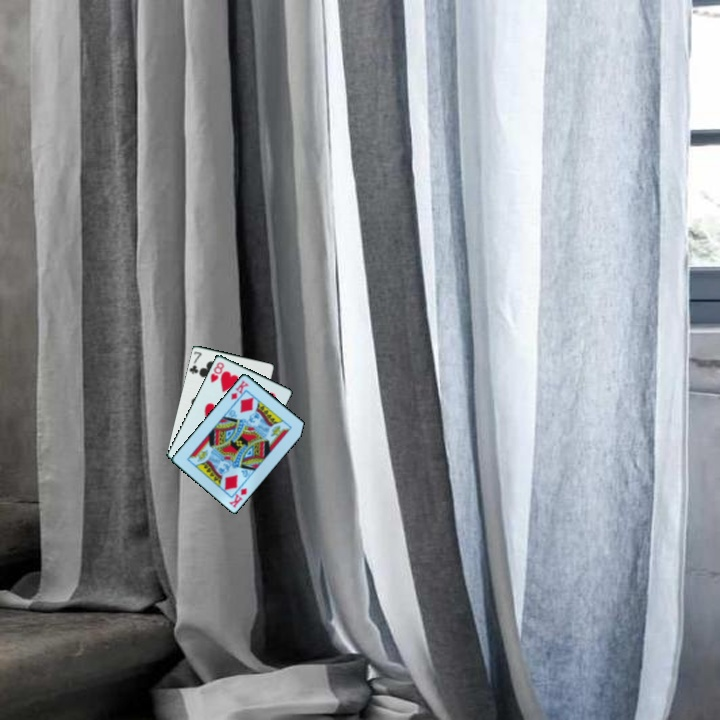7c: (186, 348, 204, 377)
8h: (207, 359, 227, 385)
Kd: (227, 377, 252, 402), (226, 484, 250, 510)
